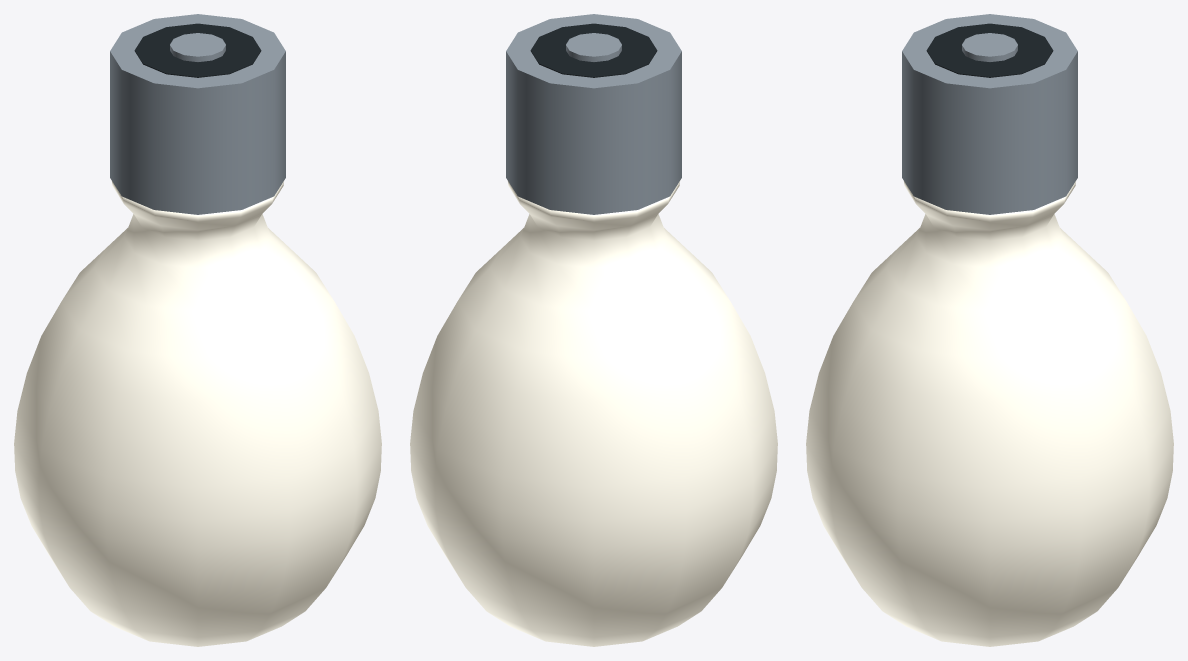
File: source.glb
3 renders of one model, left to right at view 1: azimuth 30°, elevation 25°; view 2: azimuth 150°, elevation 25°; view 3: azimuth 270°, elevation 25°, orthographic.
Parts seen in each view (by area): view 1: Emitters, 机加工金属, 密封及绝缘件; view 2: Emitters, 机加工金属, 密封及绝缘件; view 3: Emitters, 机加工金属, 密封及绝缘件.
Boxes of the visible parts, left/top/right/bottom form: Emitters: left=14, top=181, right=381, bottom=646; 机加工金属: left=110, top=14, right=285, bottom=214; 密封及绝缘件: left=134, top=23, right=261, bottom=77; Emitters: left=410, top=181, right=777, bottom=646; 机加工金属: left=506, top=14, right=681, bottom=214; 密封及绝缘件: left=530, top=23, right=657, bottom=77; Emitters: left=806, top=181, right=1173, bottom=646; 机加工金属: left=902, top=14, right=1077, bottom=214; 密封及绝缘件: left=926, top=23, right=1053, bottom=77.
Size of the model in its own units: 0.0452 by 0.0789 by 0.0452.
